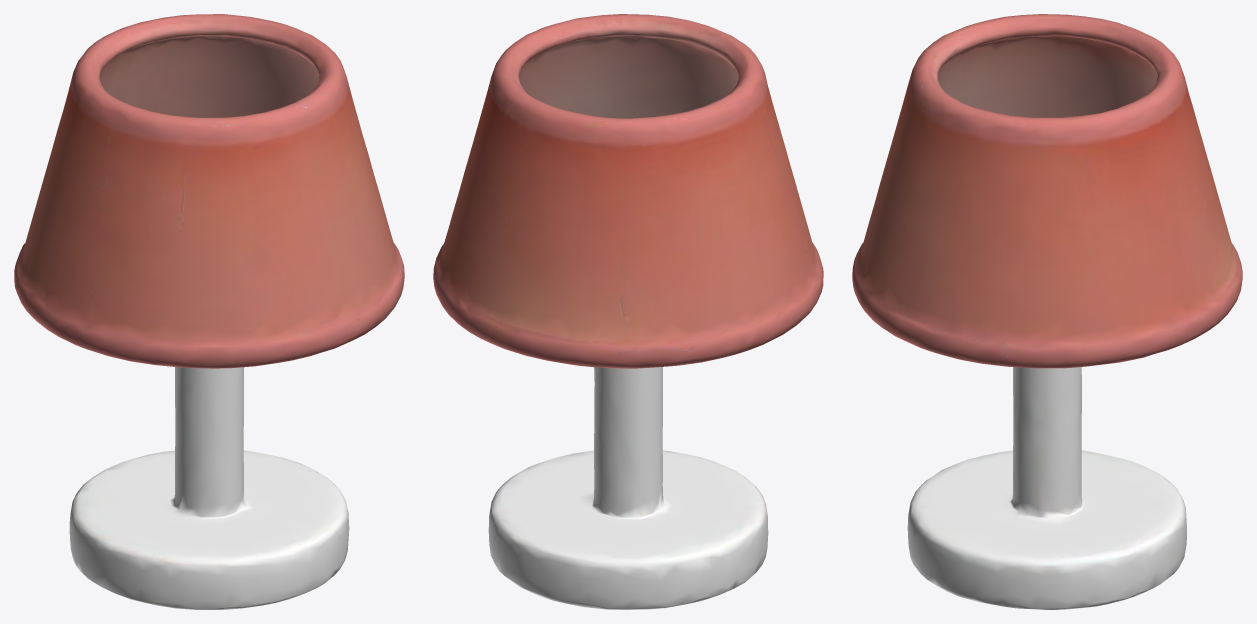
Rendered from lamp.glb.
The picture shows the model from 3 angles, left to right: view 1: azimuth 30°, elevation 25°; view 2: azimuth 150°, elevation 25°; view 3: azimuth 270°, elevation 25°; orthographic projection.
Bounding box in the file's own units: 0.7333 × 1.01 × 0.7331.
Materials: 1 (1 with a texture image).
